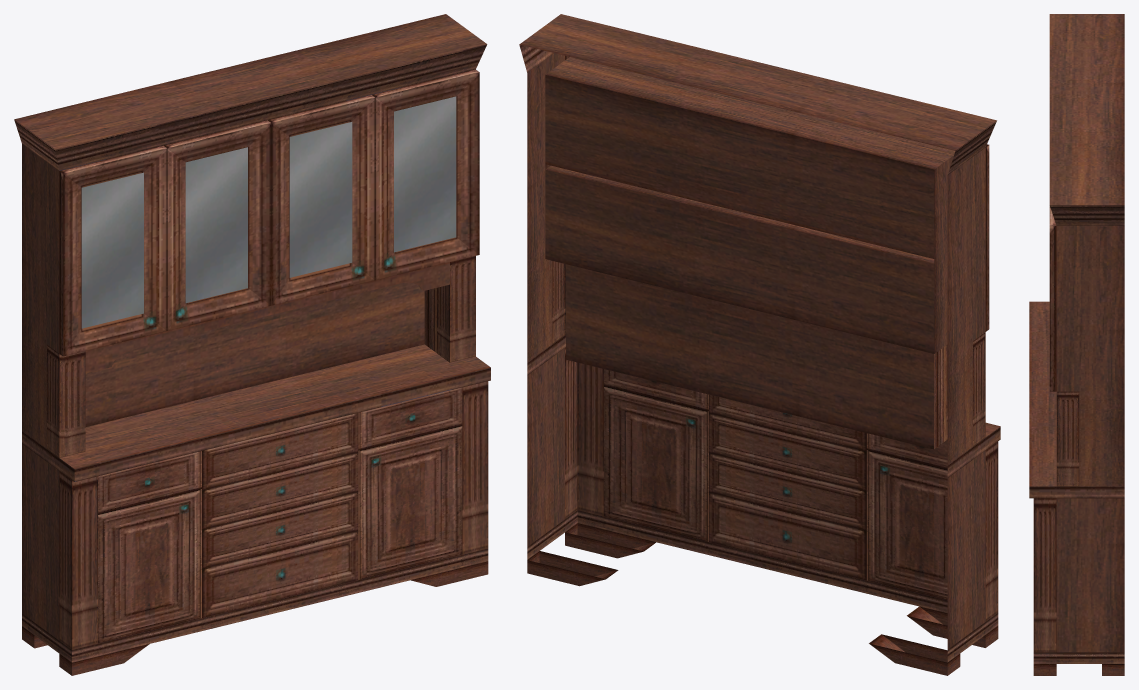
Rendered from china_hutch.fbx.
3 renders of one model, left to right at view 1: azimuth 30°, elevation 25°; view 2: azimuth 150°, elevation 25°; view 3: azimuth 270°, elevation 25°, orthographic. The views are drawn at different scales.
Parts seen in each view (by area): view 1: mesh_10; view 2: mesh_10; view 3: mesh_10.
Boxes of the visible parts, x1,y1,x2,y2 form: mesh_10: (14,14,490,675); mesh_10: (519,14,1000,675); mesh_10: (1029,14,1124,675).
Bounding box in the file's own units: 199 × 230 × 42.
Materials: 1 (1 with a texture image).
